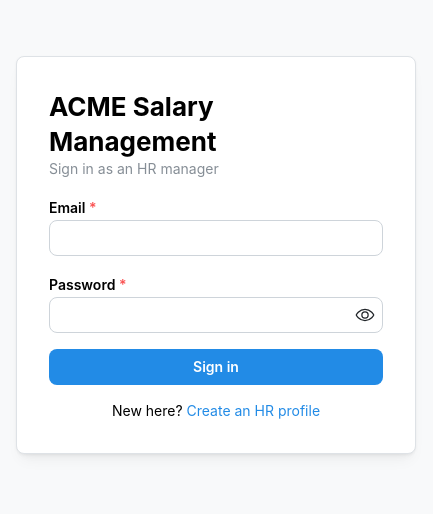
Test case: Creating an HR profile from the login page › shows a taken email next to the email field
Click the button "Create an HR profile" at (253, 411), box 186,401 -> 320,421
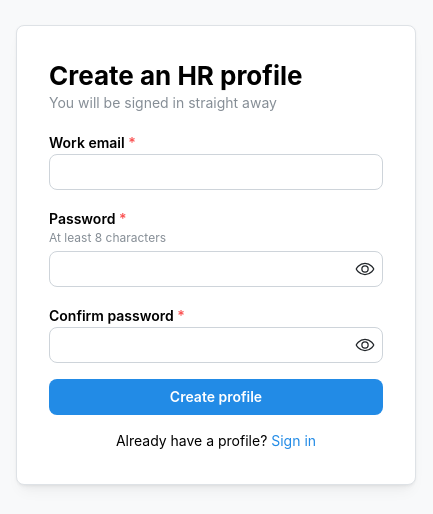
Type "hr@acme.test" into the field labelled "Work email *" at (216, 172), box 49,154 -> 383,190
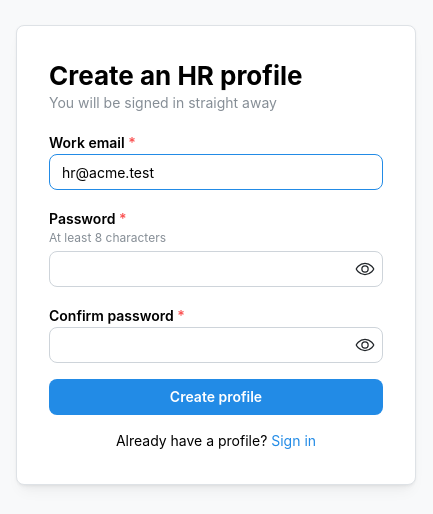
Type "long enough pw" into the password field labelled "Password *" at (216, 269), box 50,252 -> 382,286
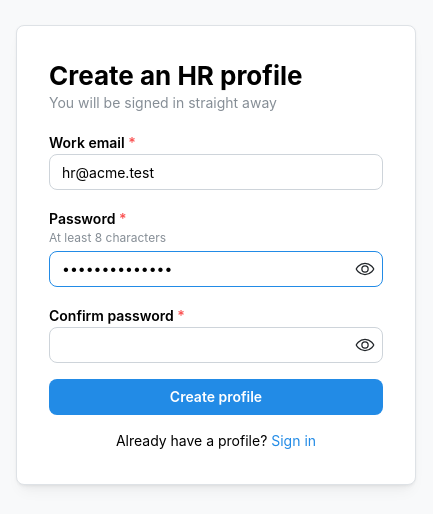
Type "long enough pw" into the password field labelled "Confirm password *" at (216, 345), box 50,328 -> 382,362
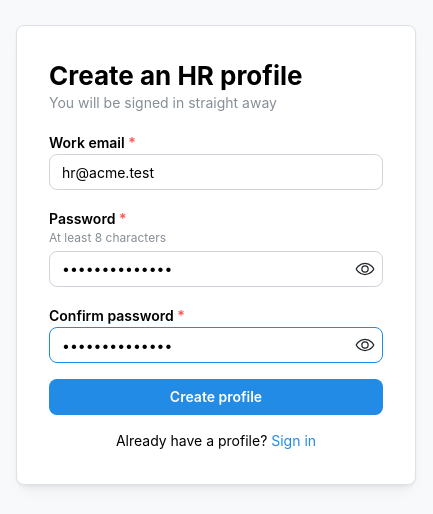
Click the button "Create profile" at (216, 397), box 49,379 -> 383,415
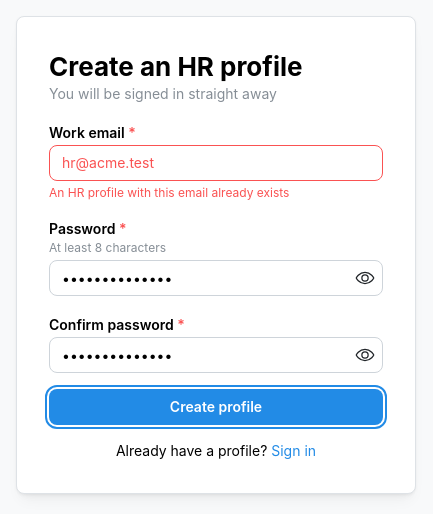
Now the text "An HR profile with this email already exists" is shown, box 49,185 -> 290,200
